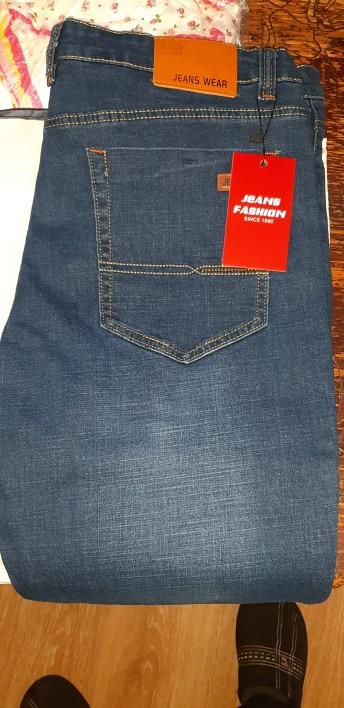jeans: (20, 32, 338, 594)
